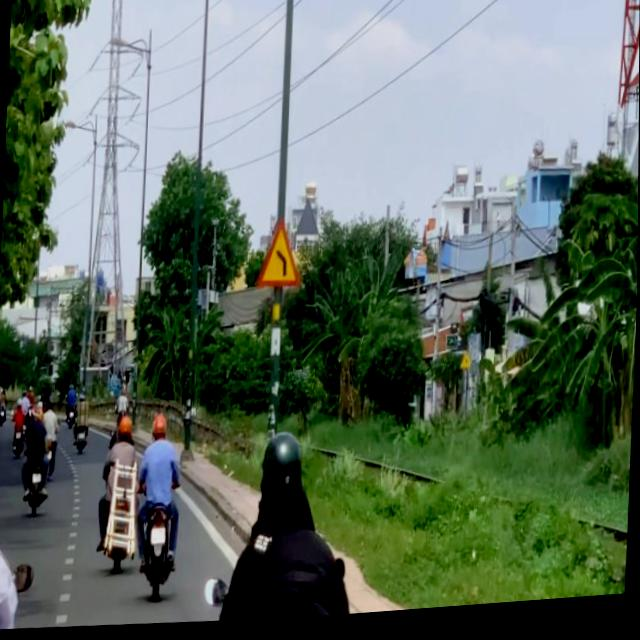cho ngoat nguy hiem vong ben trai: (254, 216, 305, 298)
